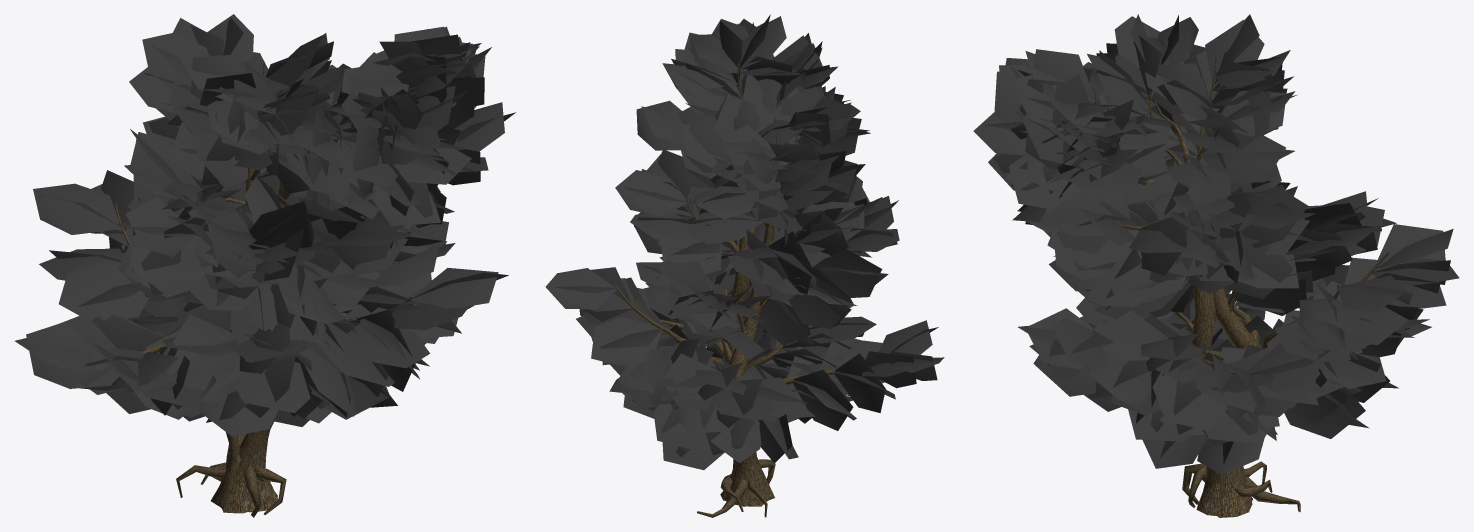
File: SM_Tree02.FBX
3 renders of one model, left to right at view 1: azimuth 30°, elevation 25°; view 2: azimuth 150°, elevation 25°; view 3: azimuth 270°, elevation 25°, orthographic. The views are drawn at different scales.
Parts seen in each view (by area): view 1: SM_Tree02; view 2: SM_Tree02; view 3: SM_Tree02.
Part boxes in pixels (x1,y1,x2,y2): SM_Tree02: (15, 14, 515, 517); SM_Tree02: (545, 14, 944, 517); SM_Tree02: (973, 14, 1459, 517).
Size of what is drawn, in the model's own units: 2320 by 2307 by 2571.
